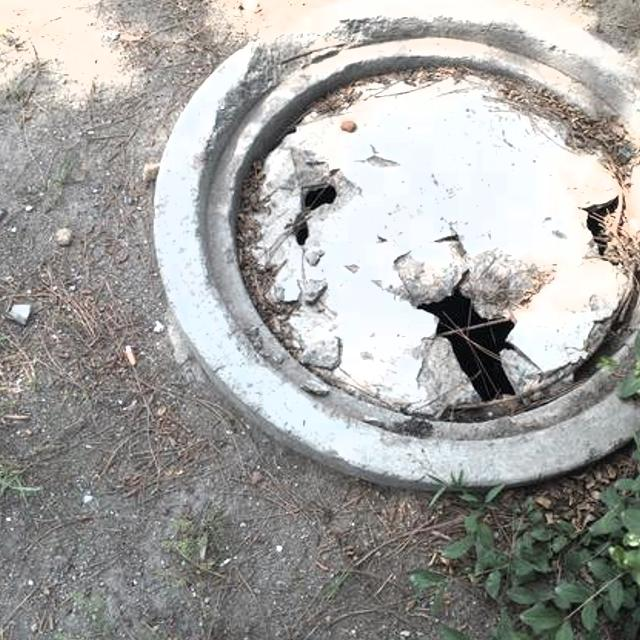broke: (136, 0, 640, 491)
